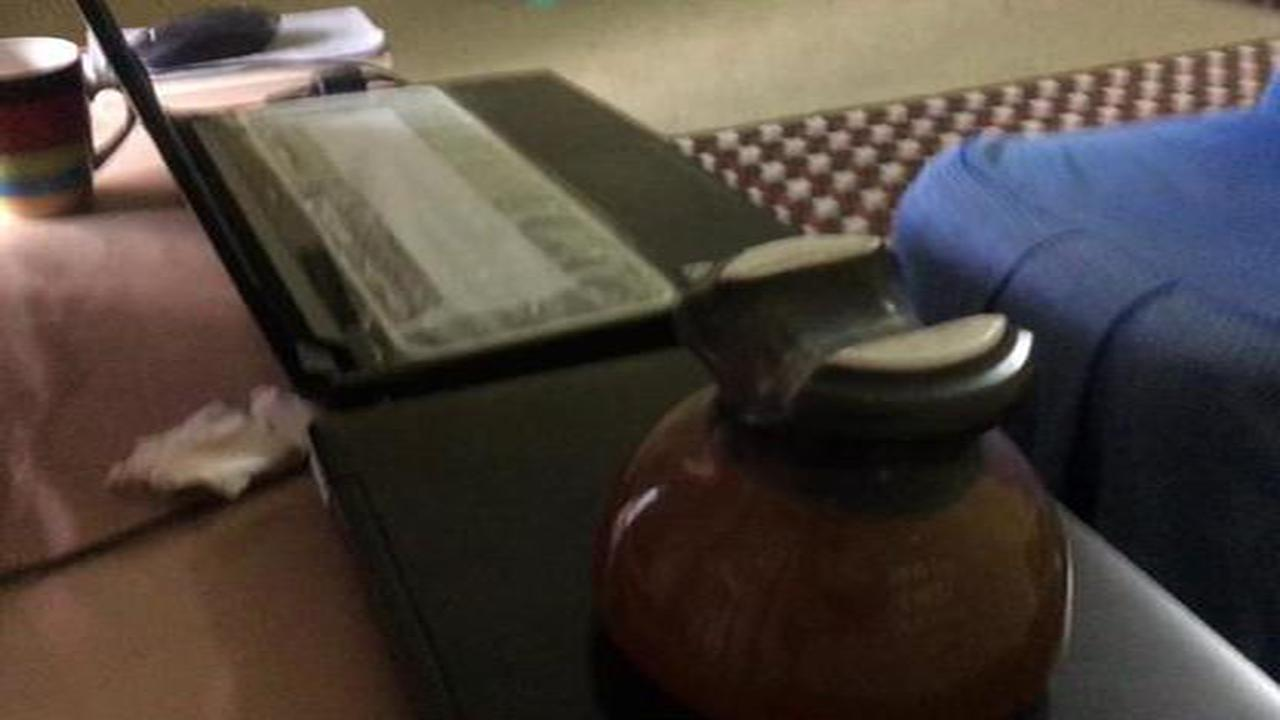insulator_pin: (579, 217, 1081, 720)
